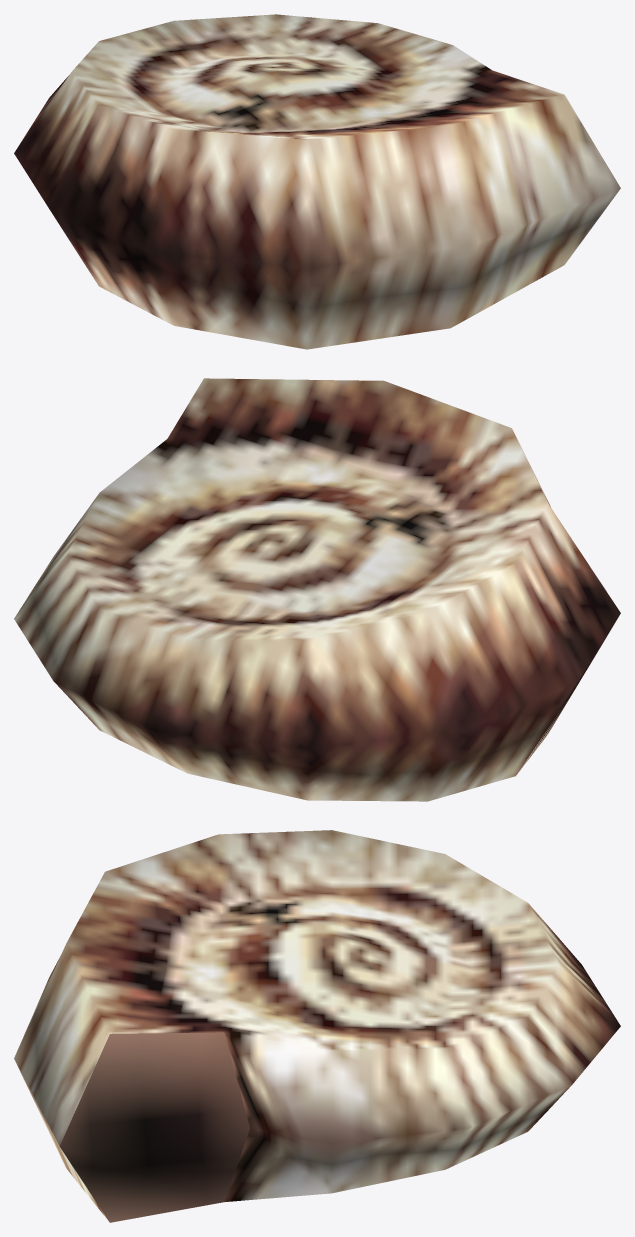
Rendered from stst64.dae.
3 renders of one model, top to bottom at view 1: azimuth 30°, elevation 25°; view 2: azimuth 150°, elevation 25°; view 3: azimuth 270°, elevation 25°, orthographic. The views are drawn at different scales.
Visible parts, largest first — view 1: shell; view 2: shell; view 3: shell.
Boxes of the visible parts, x1,y1,x2,y2 form: shell: (14,14,620,349); shell: (14,378,620,801); shell: (14,830,620,1222).
Size of the model in its own units: 0.6228 by 0.6563 by 0.2769.
1 material, 1 textured.
